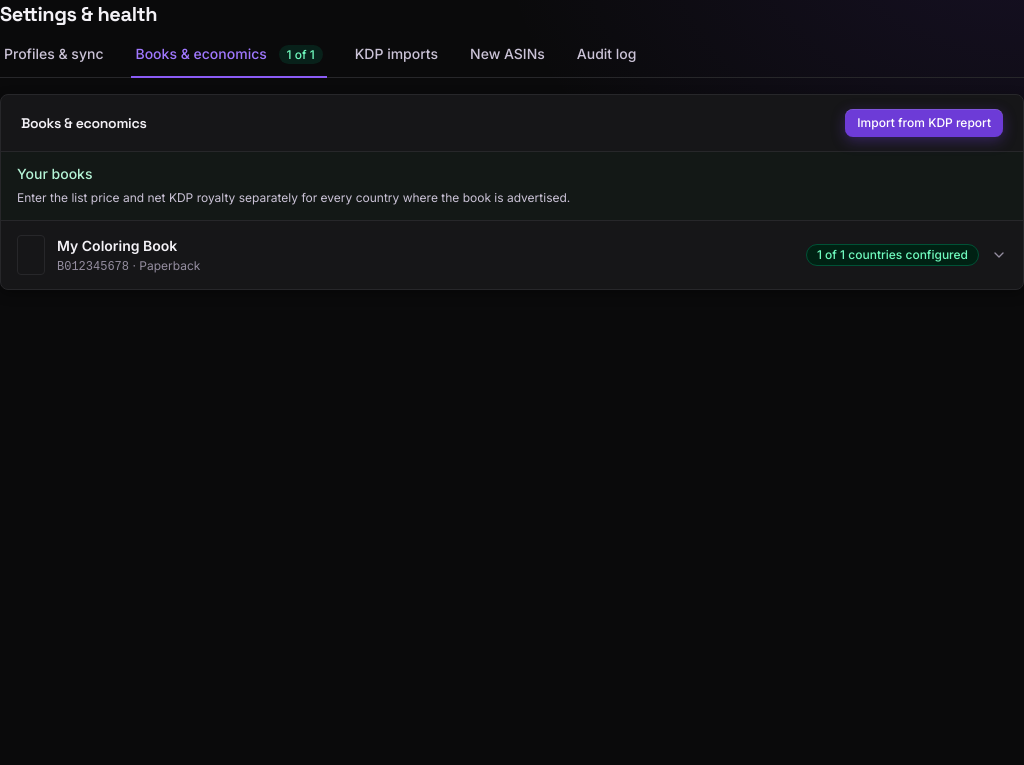
Test: SettingsPage book mapping › initializes effectiveFrom date from saved economics and asks for an explicit update strategy
# Expand the book settings card (since it is complete and defaults to collapsed)
Click the button "My Coloring Book". click: (117, 245)
box: [1,221,1023,289]
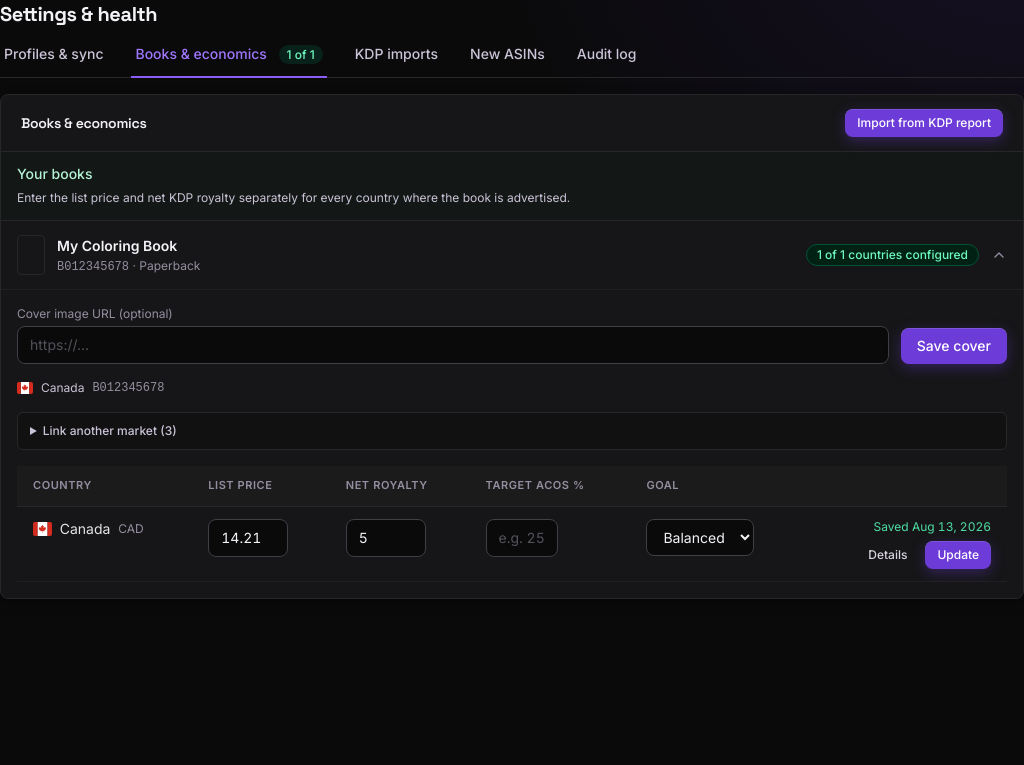
# Open details drawer
Click the button with aria-label "Canada economics details". click: (888, 555)
box: [856,541,920,569]
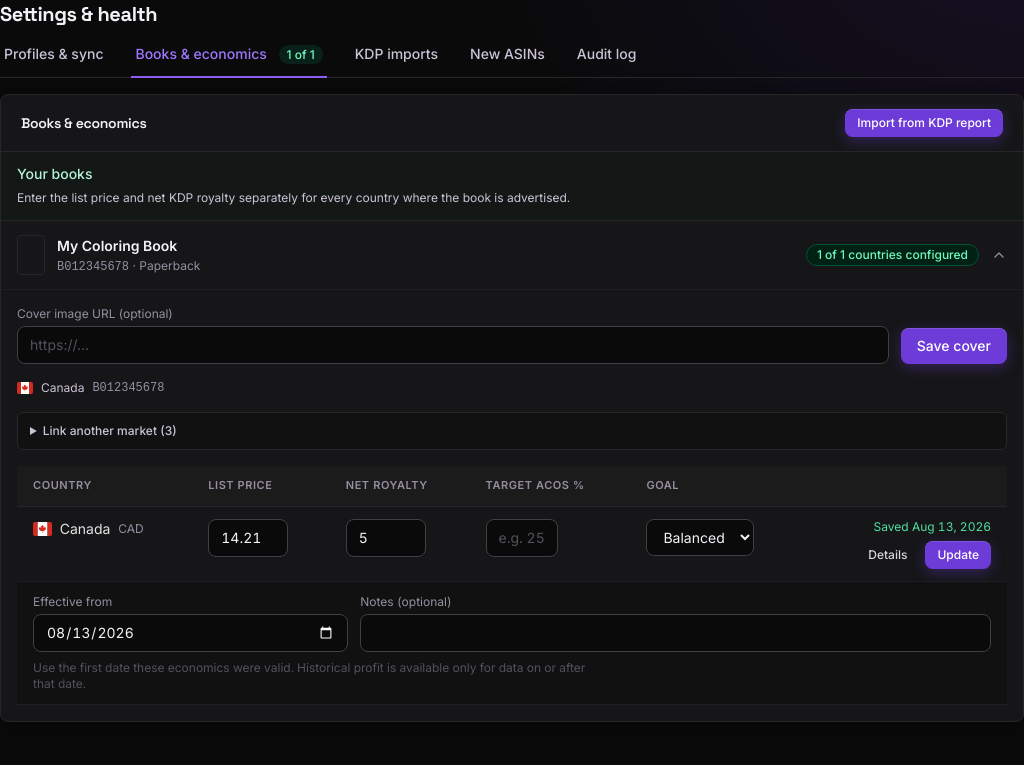
Expected: the date field named "Canada economics effective from" holds "2026-08-13", [33,614,348,652]
# A purely cosmetic retype of the same price is not a change
Replace the text in the field named "Canada list price" with "14.210". click: (248, 538)
box: [208,519,288,557]
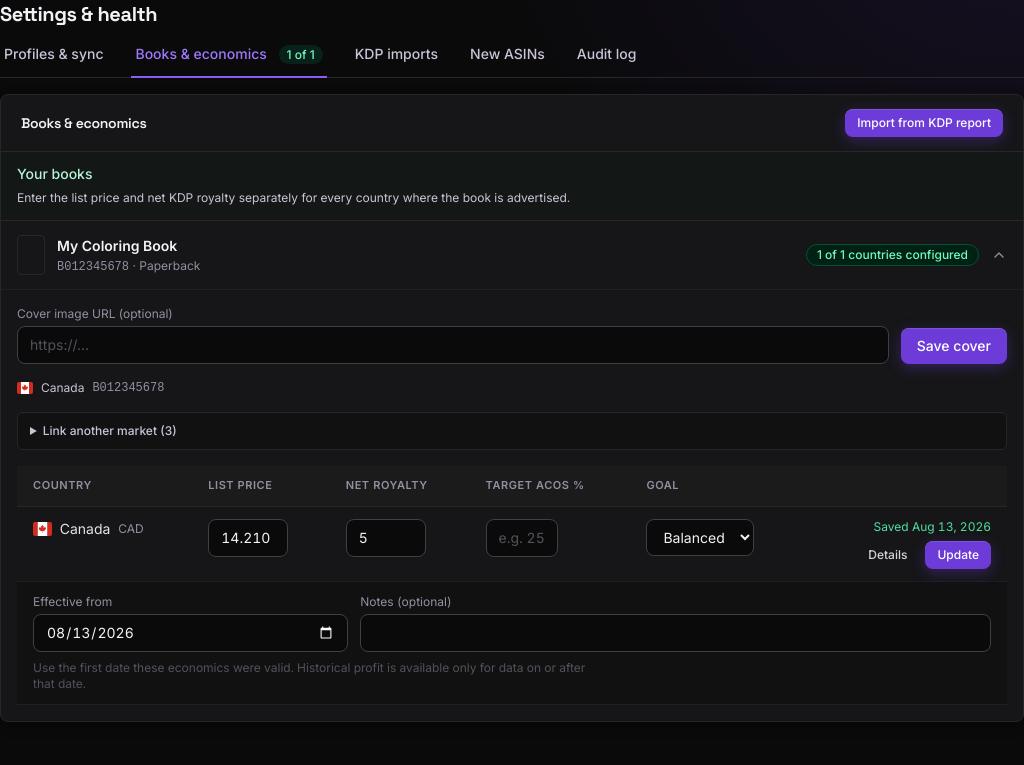
Expected: the text "You are updating the economics values" is not shown
# Modify the price to trigger the strategy choice warning
Replace the text in the field named "Canada list price" with "15.99". click: (248, 538)
box: [208,519,288,557]
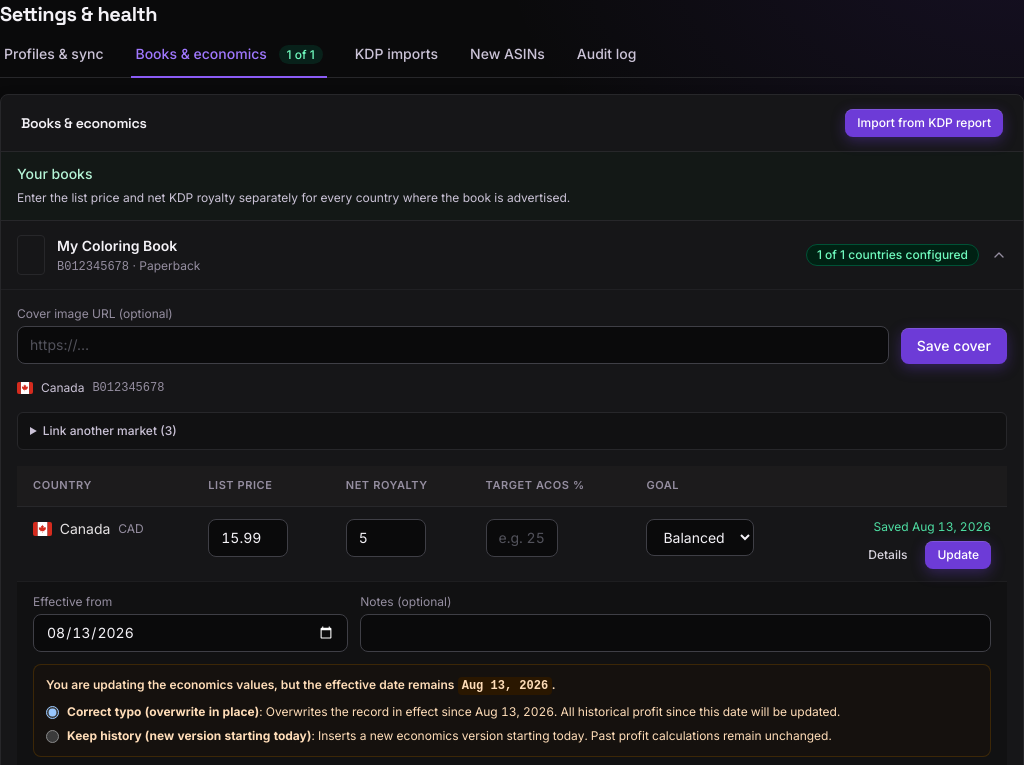
Expected: the text "You are updating the economics values" is shown, [46,677,454,692]
Expected: the radio button labelled "Correct typo (overwrite in place)" is checked, [46,706,59,719]
Expected: the radio button labelled "Keep history (new version starting today)" is not checked
# Choose history option
Click the radio button labelled "Keep history (new version starting today)". click: (52, 736)
box: [46,730,59,743]
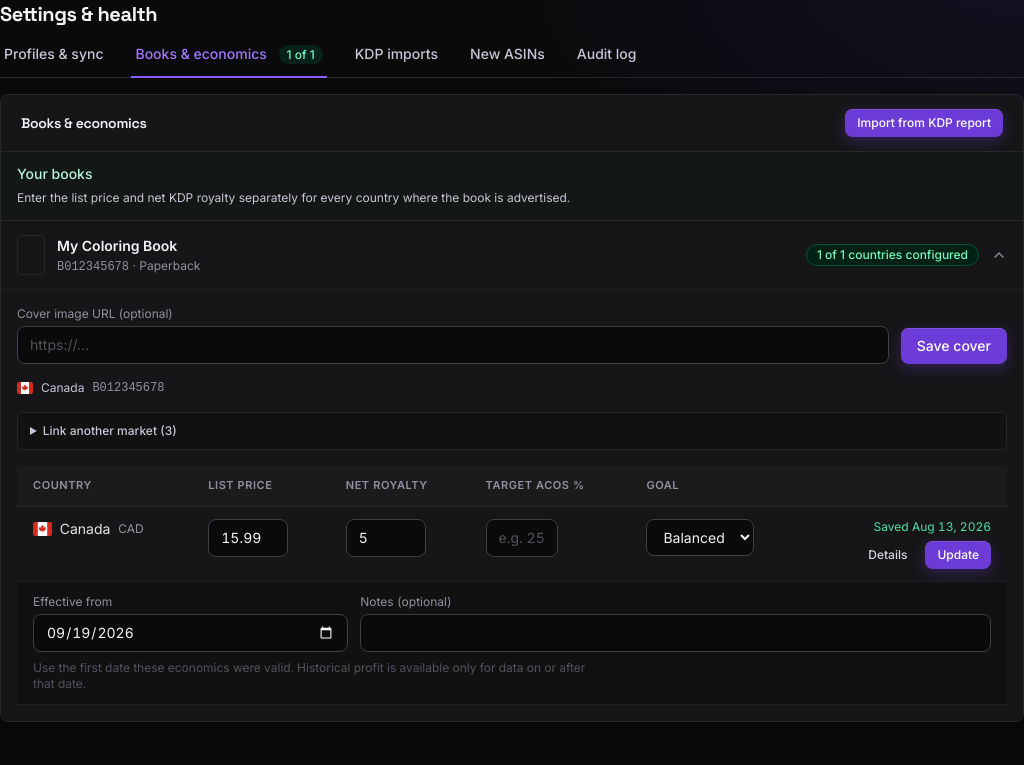
Expected: the text "You are updating the economics values" is gone
